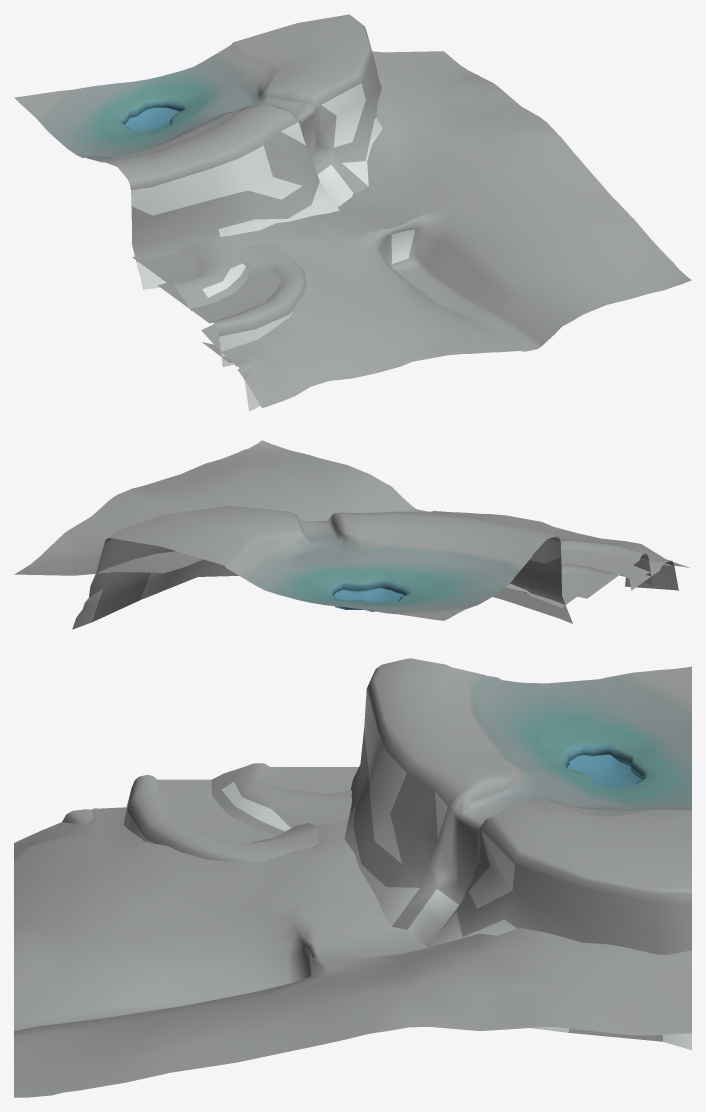
3 views of the same model, one above another, from view 1: azimuth 30°, elevation 25°; view 2: azimuth 150°, elevation 25°; view 3: azimuth 270°, elevation 25° (orthographic). The views are drawn at different scales.
Visible parts, largest first — view 1: G:\FFXIV-MapTools\exports\e3f2\bg\ex2\02_est_e3\fld\e3f2\bgp (×15); view 2: G:\FFXIV-MapTools\exports\e3f2\bg\ex2\02_est_e3\fld\e3f2\bgp (×15); view 3: G:\FFXIV-MapTools\exports\e3f2\bg\ex2\02_est_e3\fld\e3f2\bgp (×16).
Boxes of the visible parts, box(x1,y1,x2,y2) form: G:\FFXIV-MapTools\exports\e3f2\bg\ex2\02_est_e3\fld\e3f2\bgp (×15): box(14, 14, 673, 411); G:\FFXIV-MapTools\exports\e3f2\bg\ex2\02_est_e3\fld\e3f2\bgp (×15): box(14, 449, 689, 629); G:\FFXIV-MapTools\exports\e3f2\bg\ex2\02_est_e3\fld\e3f2\bgp (×16): box(14, 658, 691, 1092).
Size of the model in its own units: 128 by 42.12 by 128.
